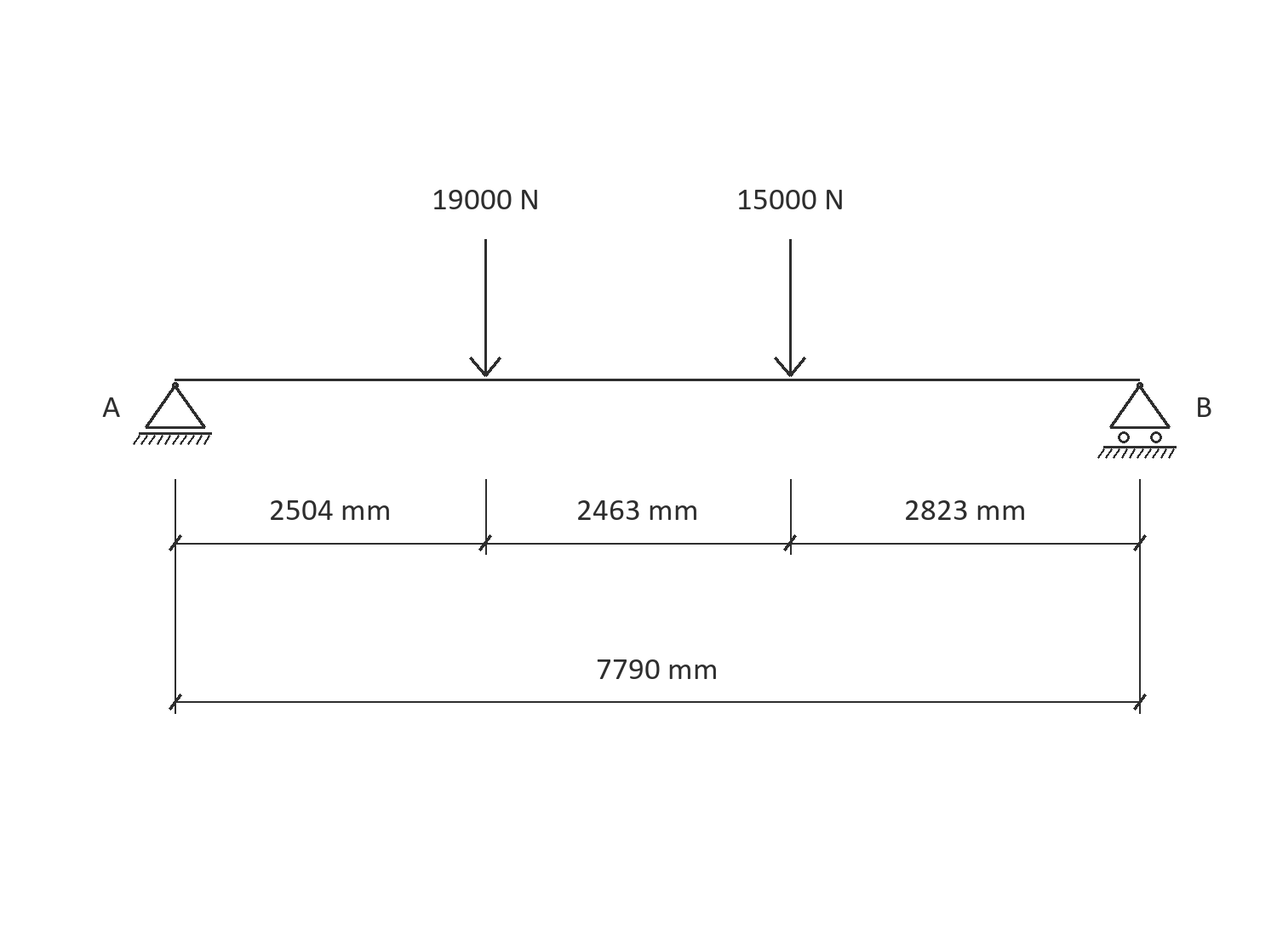pin_support: (133, 382, 212, 445)
point_load: (469, 239, 501, 377), (774, 239, 806, 377)
roller_support: (1097, 382, 1177, 459)
